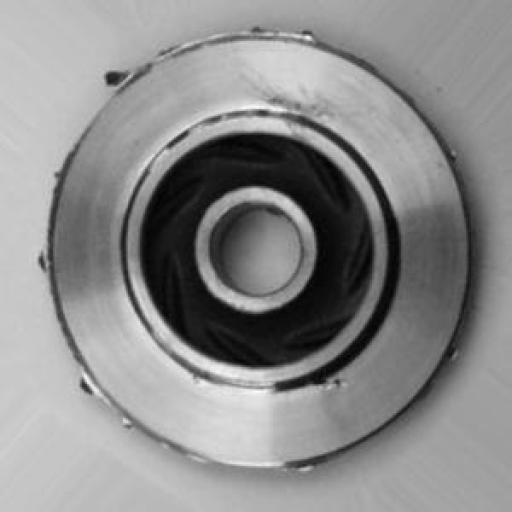defect: (30, 27, 496, 473)
